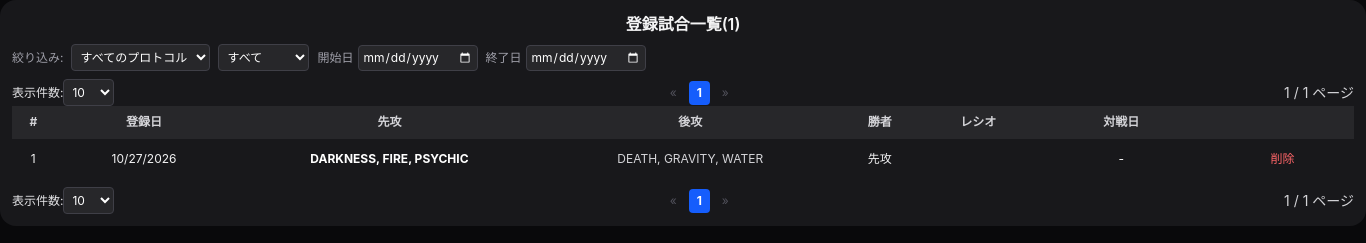
it: MatchList › delete flow › 削除ボタンをクリックすると 確認/戻る が表示される
Click the button "削除".
click(1282, 159)  # box left=1262, top=147, right=1302, bottom=171
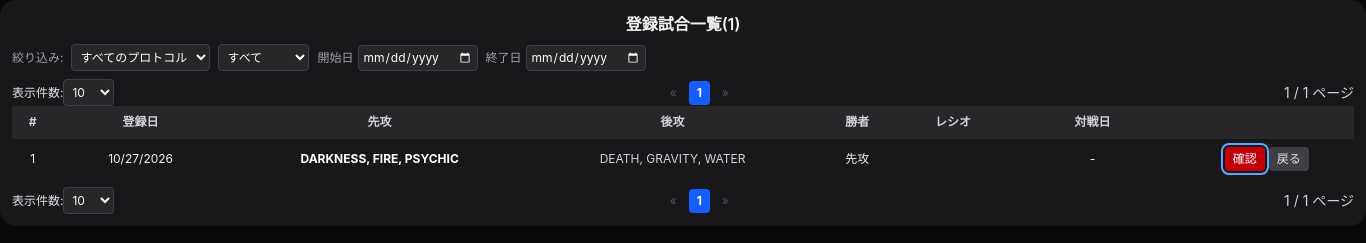
Check: the button "確認" is shown, box left=1225, top=147, right=1265, bottom=171
Check: the button "戻る" is shown, box left=1269, top=147, right=1309, bottom=171
Check: the button "削除" is gone
